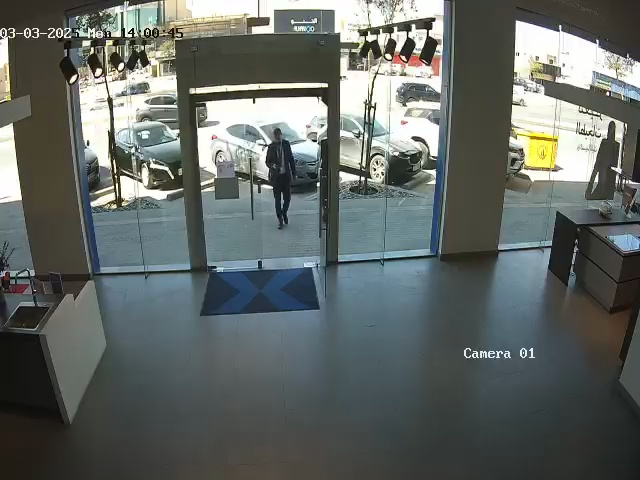employee: (264, 127, 298, 229)
